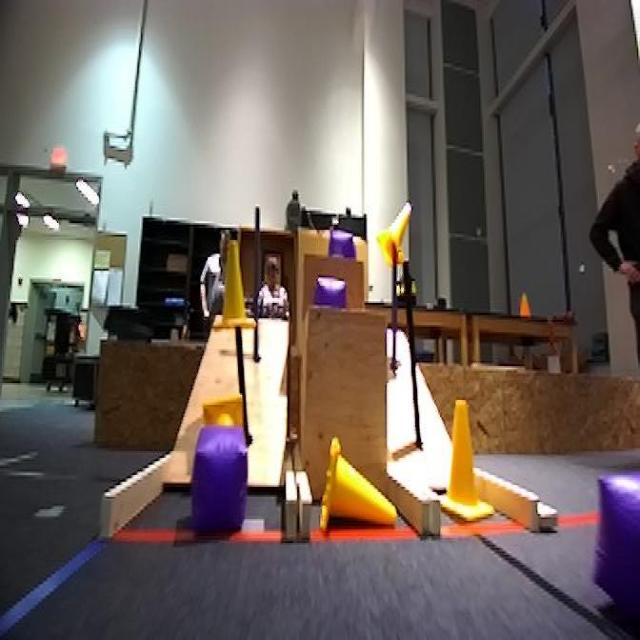frc_cone: (320, 438, 403, 528), (441, 395, 494, 529), (219, 236, 254, 334), (378, 198, 414, 270), (198, 405, 251, 441)
frc_cube: (590, 464, 639, 640), (188, 436, 250, 534), (325, 228, 355, 272), (315, 274, 347, 315)
